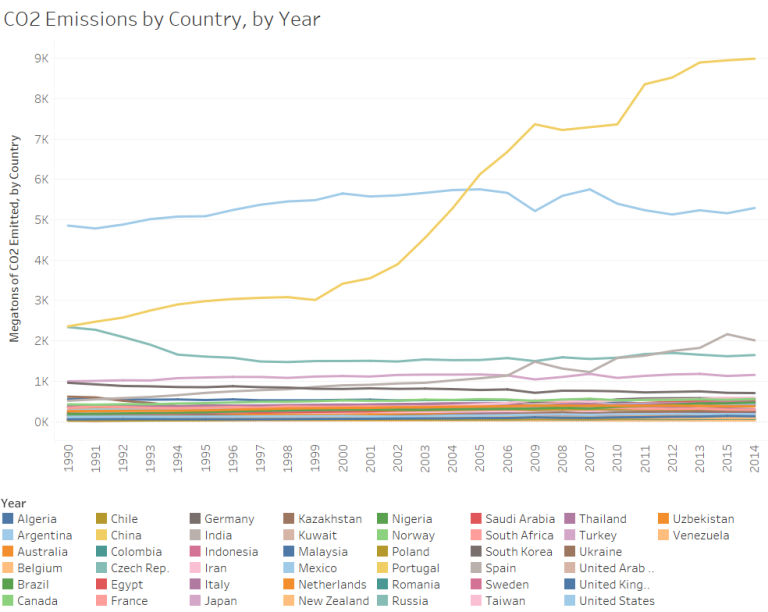

Layout of this report page (visuals, bound fields, positions):
{"tool":"tableau","page":{"name":"Dashboard 1","canvas":[1000,800],"ordinal":0},"visuals":[{"type":"worksheet","title":"Sheet 1","mark":"Square","cols":["F1"],"box":[8,8,984,784]}]}

Visuals, with their boxes in screenshot pixels (x1, y1, x2, y2), scaled from the page's 1000x800 canvas onto the 768x612 screenshot:
"Sheet 1" worksheet (Square marks): (6, 6, 762, 606)
